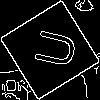U: (25, 25, 78, 71)
